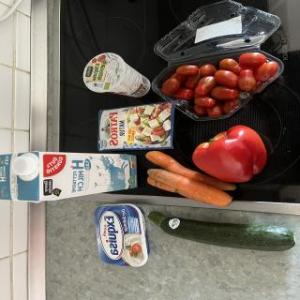bell_pepper: (190, 120, 270, 190)
carrot: (142, 146, 244, 195), (140, 166, 234, 208)
tomato: (236, 50, 270, 70), (192, 74, 218, 100), (256, 58, 284, 82), (209, 83, 241, 103), (210, 68, 240, 89), (176, 60, 202, 80)
zucchini: (145, 206, 297, 256)
